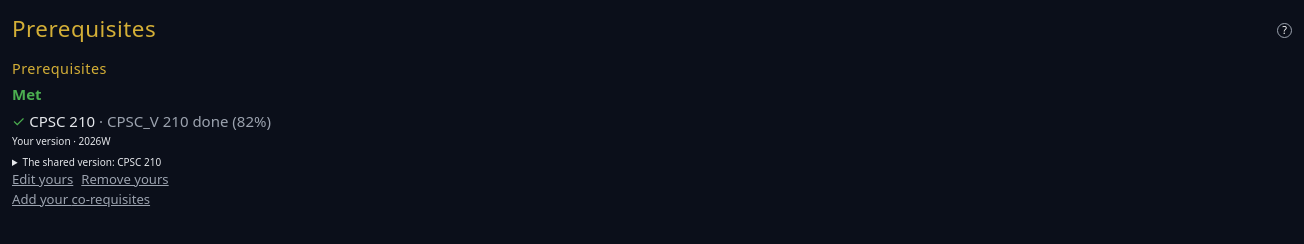
Test: PrerequisitesPanel › removes yours and falls back to the shared one
Step 1. Click the button "Remove yours" → (125, 180), box [81,170,169,190]
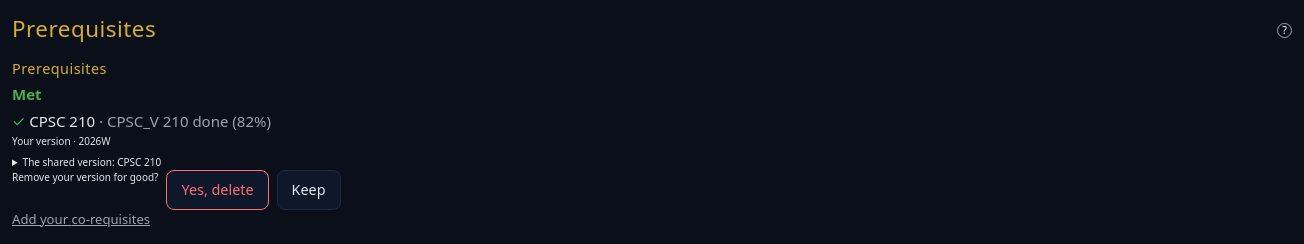
Step 2. Click the button "Keep" → (309, 190), box [277,170,341,210]
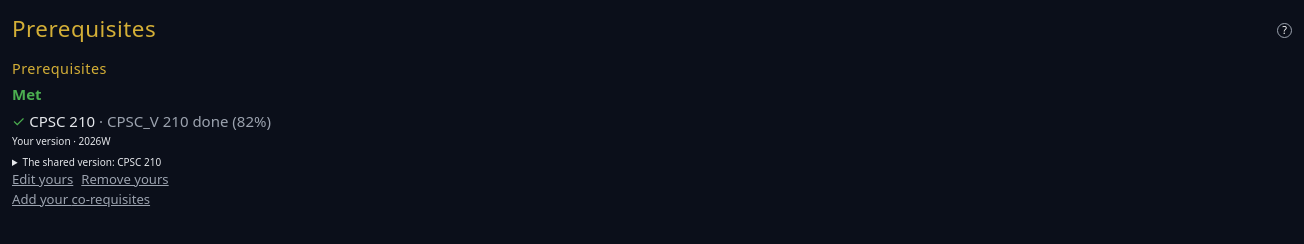
Step 3. Click the button "Remove yours" → (125, 180), box [81,170,169,190]
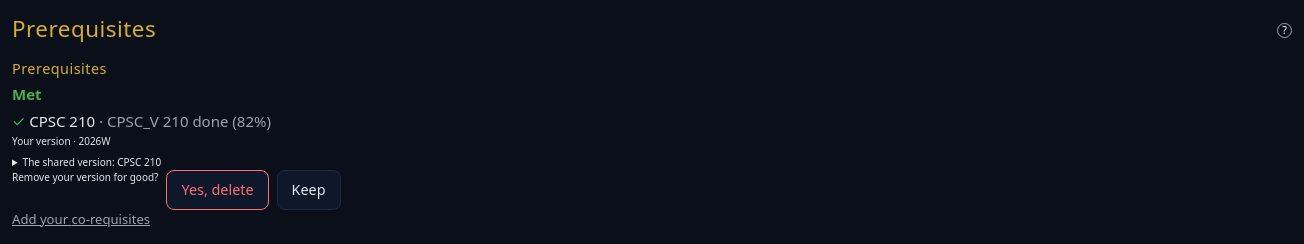
Step 4. Click the button "Yes, delete" → (218, 190), box [166,170,269,210]
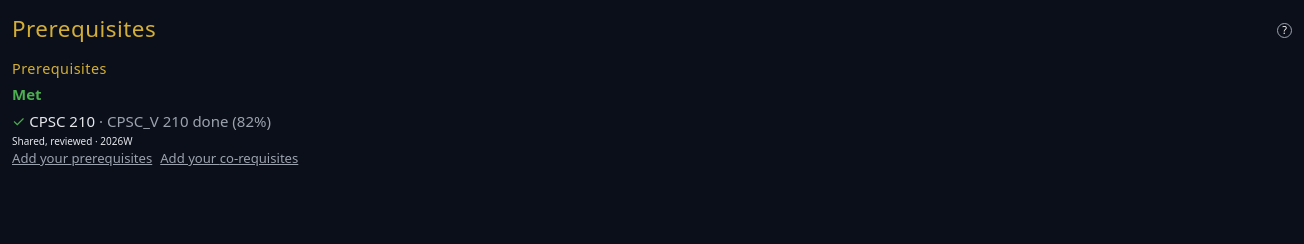
Expected: the text "Shared, reviewed · 2026W" is shown, [12,134,132,148]
